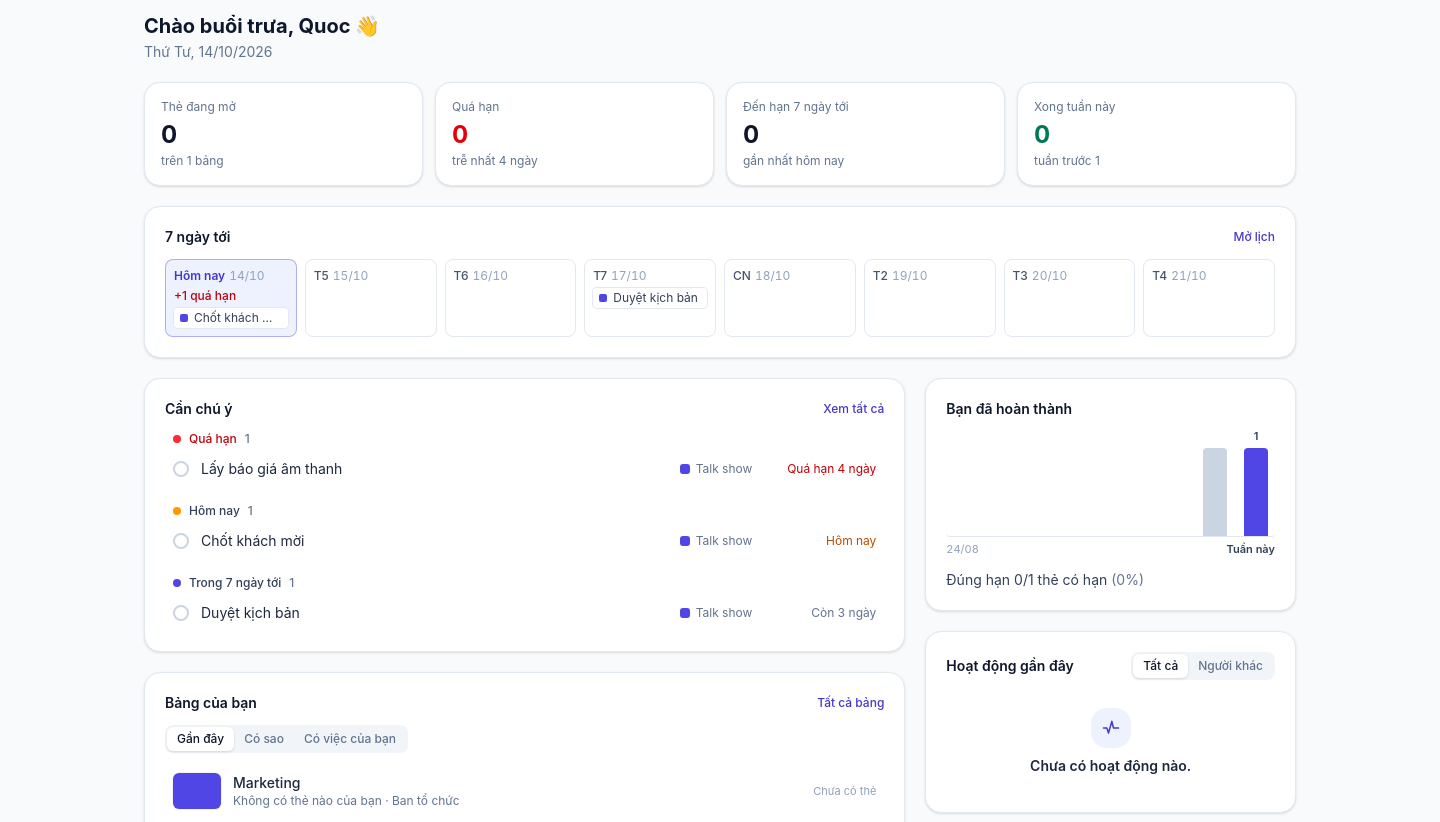
Scenario: Tổng quan: Bảng của bạn › đổi tab: Có sao / Có việc của bạn; nhớ tab đã chọn
Click the button "Có sao": (264, 739) [234, 727, 294, 751]
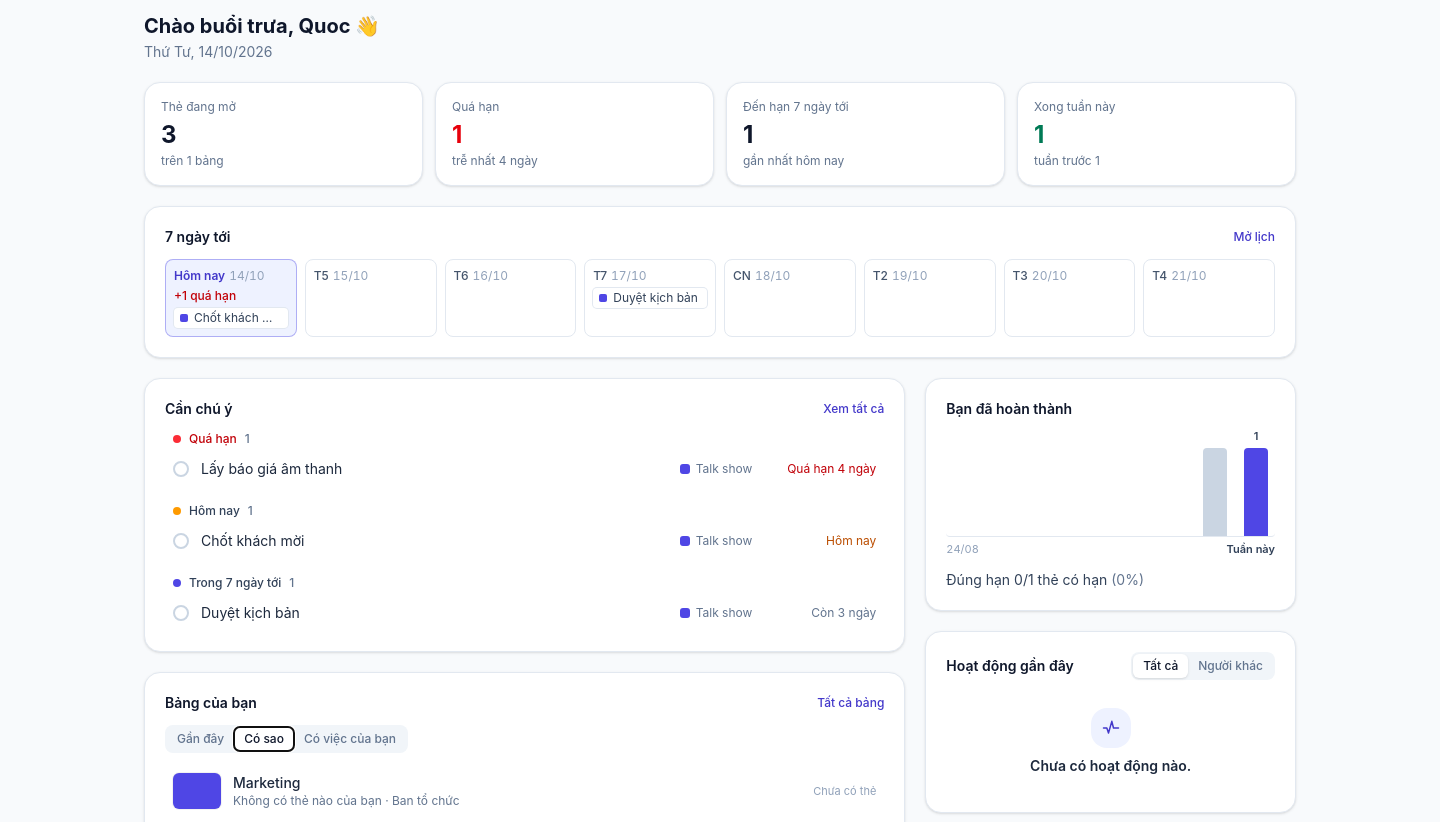
Expected: the link "Marketing" is shown, [233, 774, 300, 791]
Expected: the button "Có sao" is pressed, [234, 727, 294, 751]
Click the button "Có việc của bạn": (350, 739) [294, 727, 406, 751]
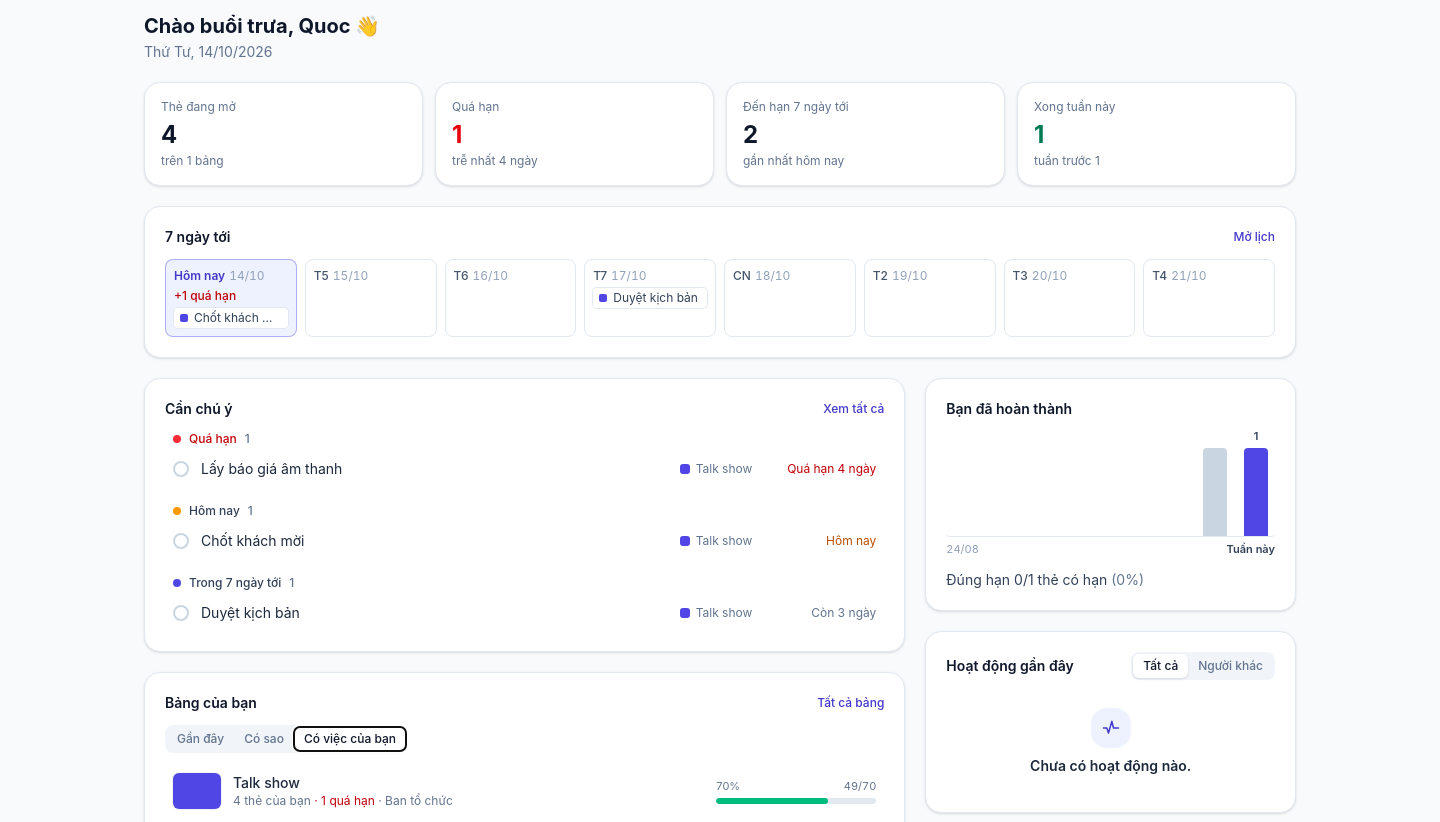
Expected: the link "Marketing" is gone
